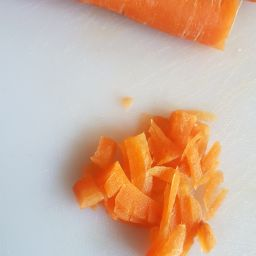Sliced carrots: (65, 84, 244, 256), (35, 1, 251, 57), (120, 142, 208, 233)
